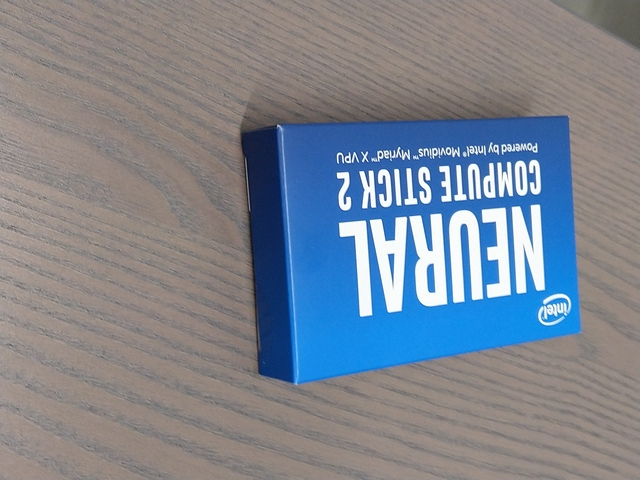box: (239, 114, 584, 386)
